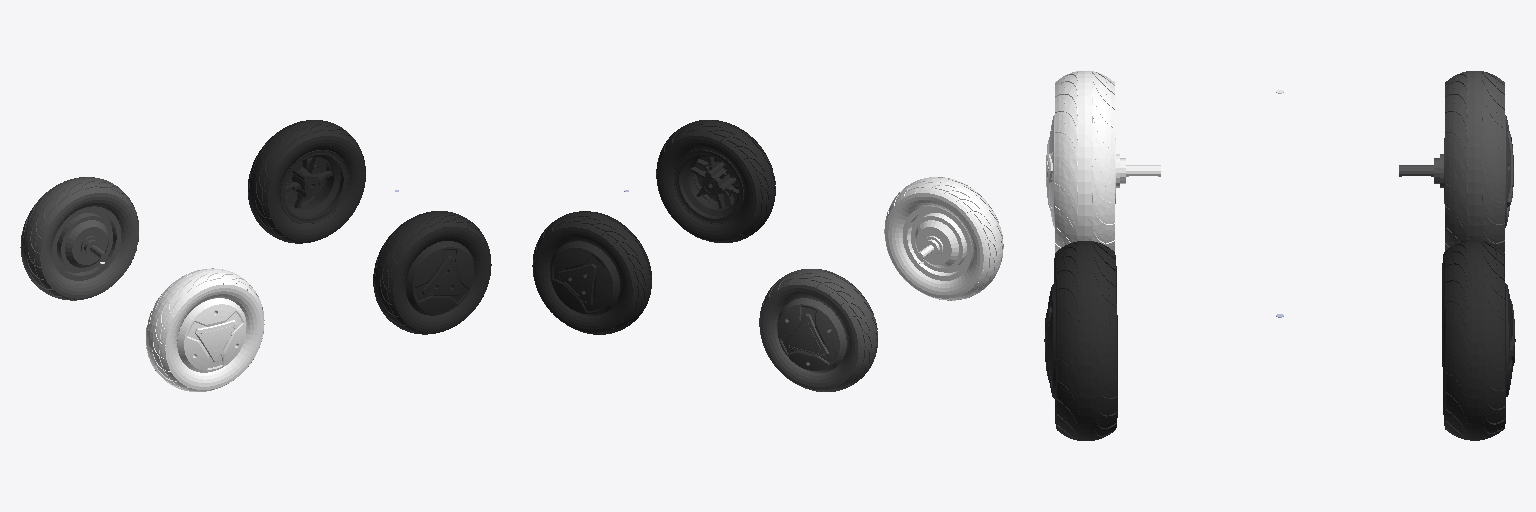
URDF robot description (hunter_se_description):
<?xml version="1.0" encoding="utf-8"?>
<!-- This URDF was automatically created by SolidWorks to URDF Exporter! Originally created by [author] ([email redacted]) 
     Commit Version: 1.6.0-1-g15f4949  Build Version: 1.6.7594.29634
     For more information, please see http://wiki.ros.org/sw_urdf_exporter -->
<robot
  name="hunter_se_description">
  <link
    name="base_link">
    <inertial>
      <origin
        xyz="0.0374140021041951 -0.000373005187591258 -0.0771282894414029"
        rpy="0 0 0" />
      <mass
        value="0.01" />
      <inertia
        ixx="0.123215829336501"
        ixy="-2.51201031615063E-06"
        ixz="0.00480100638469038"
        iyy="0.219144715482931"
        iyz="-1.0329581476775E-05"
        izz="0.313606030126045" />
    </inertial>
    <visual>
      <origin
        xyz="0 0 0"
        rpy="0 0 0" />
      <geometry>
        <mesh
          filename="package://hunter_se_description/meshes/base_link.STL" />
      </geometry>
      <material
        name="">
        <color
          rgba="0.752941176470588 0.752941176470588 0.752941176470588 1" />
      </material>
    </visual>
    <collision>
      <origin
        xyz="0 0 0"
        rpy="0 0 0" />
      <geometry>
        <mesh
          filename="package://hunter_se_description/meshes/base_link.STL" />
      </geometry>
    </collision>
  </link>
  <link
    name="fr_steer_left_link">
    <inertial>
      <origin
        xyz="-0.0002776492198312 0.0163539773588368 4.97346169803237E-09"
        rpy="0 0 0" />
      <mass
        value="0.01" />
      <inertia
        ixx="0.0176012120277572"
        ixy="-0.000255822069720042"
        ixz="4.89135197289253E-08"
        iyy="0.0326650592194903"
        iyz="-5.05595058544686E-10"
        izz="0.0175968940276803" />
    </inertial>
    <visual>
      <origin
        xyz="0 0 0"
        rpy="0 0 0" />
      <geometry>
        <box size="0.001 0.001 0.001"/>
      </geometry>
      <material
        name="">
        <color
          rgba="0.223529411764706 0.223529411764706 0.223529411764706 1" />
      </material>
    </visual>
    <collision>
      <origin
        xyz="0 0 0"
        rpy="0 0 0" />
      <geometry>
        <box size="0.001 0.001 0.001"/>
      </geometry>
    </collision>
  </link>
  <joint
    name="fr_steer_left_joint"
    type="revolute">
    <origin
      xyz="0.34058 0.24619 -0.1535"
      rpy="0 0 0" />
    <parent
      link="base_link" />
    <child
      link="fr_steer_left_link" />
    <axis
      xyz="0 0 1" />
    <limit
      lower="-0.69"
      upper="0.69"
      effort="0"
      velocity="0" />
  </joint>
  <link
    name="fr_left_link">
    <inertial>
      <origin
        xyz="-3.5837499634539E-10 4.97346158701006E-09 -0.016356334080185"
        rpy="0 0 0" />
      <mass
        value="0.01" />
      <inertia
        ixx="0.0175968687768806"
        ixy="4.88978895069836E-08"
        ixz="2.59363668202492E-09"
        iyy="0.0175968940276803"
        iyz="1.33582951478864E-09"
        izz="0.0326694024703669" />
    </inertial>
    <visual>
      <origin
        xyz="0 0 0"
        rpy="0 0 0" />
      <geometry>
        <mesh
          filename="package://hunter_se_description/meshes/fr_left_link.STL" />
      </geometry>
      <material
        name="">
        <color
          rgba="0.223529411764706 0.223529411764706 0.223529411764706 1" />
      </material>
    </visual>
    <collision>
      <origin
        xyz="0 0 0"
        rpy="0 0 0" />
      <geometry>
        <mesh
          filename="package://hunter_se_description/meshes/fr_left_link.STL" />
      </geometry>
    </collision>
  </link>
  <joint
    name="fr_left_joint"
    type="continuous">
    <origin
      xyz="0 0 0"
      rpy="1.5708 0 0.016976" />
    <parent
      link="fr_steer_left_link" />
    <child
      link="fr_left_link" />
    <axis
      xyz="0 0 -1" />
  </joint>
  <link
    name="fr_steer_right_link">
    <inertial>
      <origin
        xyz="0.000274981985673328 -0.0163540222836661 -3.24802407192237E-11"
        rpy="0 0 0" />
      <mass
        value="0.01" />
      <inertia
        ixx="0.0176011208398464"
        ixy="-0.000253357559513646"
        ixz="8.00593138443467E-09"
        iyy="0.0326650290732704"
        iyz="5.65898650063874E-11"
        izz="0.0175967847225325" />
    </inertial>
    <visual>
      <origin
        xyz="0 0 0"
        rpy="0 0 0" />
      <geometry>
        <box size="0.001 0.001 0.001"/>
      </geometry>
      <material
        name="">
        <color
          rgba="1 1 1 1" />
      </material>
    </visual>
    <collision>
      <origin
        xyz="0 0 0"
        rpy="0 0 0" />
      <geometry>
        <box size="0.001 0.001 0.001"/>
      </geometry>
    </collision>
  </link>
  <joint
    name="fr_steer_right_joint"
    type="revolute">
    <origin
      xyz="0.34219 -0.24619 -0.1535"
      rpy="0 0 0" />
    <parent
      link="base_link" />
    <child
      link="fr_steer_right_link" />
    <axis
      xyz="0 0 1" />
    <limit
      lower="-0.69"
      upper="0.69"
      effort="0"
      velocity="0" />
  </joint>
  <link
    name="fr_right_link">
    <inertial>
      <origin
        xyz="0.00027498198567355 3.24801296969213E-11 -0.0163540222836661"
        rpy="0 0 0" />
      <mass
        value="0.01" />
      <inertia
        ixx="0.0176011208398464"
        ixy="-8.00593138518773E-09"
        ixz="-0.000253357559513648"
        iyy="0.0175967847225325"
        iyz="-5.65898177386586E-11"
        izz="0.0326650290732703" />
    </inertial>
    <visual>
      <origin
        xyz="0 0 0"
        rpy="0 0 0" />
      <geometry>
        <mesh
          filename="package://hunter_se_description/meshes/fr_right_link.STL" />
      </geometry>
      <material
        name="">
        <color
          rgba="0.223529411764706 0.223529411764706 0.223529411764706 1" />
      </material>
    </visual>
    <collision>
      <origin
        xyz="0 0 0"
        rpy="0 0 0" />
      <geometry>
        <mesh
          filename="package://hunter_se_description/meshes/fr_right_link.STL" />
      </geometry>
    </collision>
  </link>
  <joint
    name="fr_right_joint"
    type="continuous">
    <origin
      xyz="0 0 0"
      rpy="-1.5708 0 0" />
    <parent
      link="fr_steer_right_link" />
    <child
      link="fr_right_link" />
    <axis
      xyz="0 0 1" />
  </joint>

  <link
    name="re_left_link">
    <inertial>
      <origin
        xyz="1.245E-09 1.7252E-06 -0.010284"
        rpy="0 0 0" />
      <mass
        value="0.01" />
      <inertia
        ixx="0.018208"
        ixy="-1.1815E-10"
        ixz="-4.2619E-10"
        iyy="0.018208"
        iyz="-5.0277E-07"
        izz="0.03306" />
    </inertial>
    <visual>
      <origin
        xyz="0 0 0"
        rpy="0 0 0" />
      <geometry>
        <mesh
          filename="package://hunter_se_description/meshes/re_left_link.STL" />
      </geometry>
      <material
        name="">
        <color
          rgba="0.37647 0.37647 0.37647 1" />
      </material>
    </visual>
    <collision>
      <origin
        xyz="0 0 0"
        rpy="0 0 0" />
      <geometry>
        <mesh
          filename="package://hunter_se_description/meshes/re_left_link.STL" />
      </geometry>
    </collision>
  </link>
  <joint
    name="re_left_jiont"
    type="continuous">
    <origin
      xyz="-0.2078 0.252 -0.158"
      rpy="1.5708 0 0" />
    <parent
      link="base_link" />
    <child
      link="re_left_link" />
    <axis
      xyz="0 0 -1" />
  </joint>
  <link
    name="re_right_link">
    <inertial>
      <origin
        xyz="0 0 0"
        rpy="0 0 0" />
      <mass
        value="0.01" />
      <inertia
        ixx="0.0176011208398464"
        ixy="-8.00593138518773E-09"
        ixz="-0.000253357559513648"
        iyy="0.0175967847225325"
        iyz="-5.65898177386586E-11"
        izz="0.0326650290732703" />
    </inertial>
    <visual>
      <origin
        xyz="0 0 0"
        rpy="0 0 0" />
      <geometry>
        <mesh
          filename="package://hunter_se_description/meshes/re_right_link.STL" />
      </geometry>
      <material
        name="">
        <color
          rgba="1 1 1 1" />
      </material>
    </visual>
    <collision>
      <origin
        xyz="0 0 0"
        rpy="0 0 0" />
      <geometry>
        <mesh
          filename="package://hunter_se_description/meshes/re_right_link.STL" />
      </geometry>
    </collision>
  </link>
  <joint
    name="re_right_jiont"
    type="continuous">
    <origin
      xyz="-0.2078 -0.252 -0.158"
      rpy="-1.5708 0 0" />
    <parent
      link="base_link" />
    <child
      link="re_right_link" />
    <axis
      xyz="0 0 1" />
  </joint>

  <link
    name="front_steer_link">
    <inertial>
      <origin
        xyz="0.049836 8.1046E-15 0.017912"
        rpy="0 0 0" />
      <mass
        value="0.0049179" />
      <inertia
        ixx="1.6846E-07"
        ixy="7.6396E-23"
        ixz="-1.0974E-08"
        iyy="7.549E-07"
        iyz="-1.8957E-22"
        izz="7.334E-07" />
    </inertial>
    <visual>
      <origin
        xyz="0 0 0"
        rpy="0 0 0" />
      <geometry>
      <cylinder length="0.001" radius="0.005"/>
      </geometry>
      <material
        name="">
        <color
          rgba="0.79216 0.81961 0.93333 1" />
      </material>
    </visual>
    <collision>
      <origin
        xyz="0 0 0"
        rpy="0 0 0" />
      <geometry>
      <cylinder length="0.001" radius="0.005"/>
      </geometry>
    </collision>
  </link>
  <joint
    name="front_steer_joint"
    type="revolute">
    <origin
      xyz="0.40792 -1.1431E-05 -0.085581"
      rpy="0 0 0" />
    <parent
      link="base_link" />
    <child
      link="front_steer_link" />
    <axis
      xyz="0 0 1" />
    <limit
      lower="-0.72"
      upper="0.72"
      effort="0"
      velocity="0" />
  </joint>
  <link
    name="rear_wheel_link">
    <inertial>
      <origin
        xyz="-0.02 0.0031269 -0.12735"
        rpy="0 0 0" />
      <mass
        value="0.0049179" />
      <inertia
        ixx="1.1821E-06"
        ixy="9.6965E-13"
        ixz="-3.1553E-12"
        iyy="9.5276E-07"
        iyz="1.2428E-08"
        izz="1.0913E-06" />
    </inertial>
    <visual>
      <origin
        xyz="0 0 0"
        rpy="0 0 0" />
      <geometry>
      <cylinder length="0.001" radius="0.005"/>
      </geometry>
      <material
        name="">
        <color
          rgba="1 1 1 1" />
      </material>
    </visual>
    <collision>
      <origin
        xyz="0 0 0"
        rpy="0 0 0" />
      <geometry>
      <cylinder length="0.001" radius="0.005"/>
      </geometry>
    </collision>
  </link>
  <joint
    name="rear_wheel_joint"
    type="continuous">
    <origin
      xyz="-0.30408 -1.1431E-05 -0.085581"
      rpy="0.0032313 0 0" />
    <parent
      link="base_link" />
    <child
      link="rear_wheel_link" />
    <axis
      xyz="0 0 1" />
  </joint>
  

  <gazebo>
    <plugin name="gazebo_ros_control" filename="libgazebo_ros_control.so">
      <robotSimType>steer_bot_hardware_gazebo/SteerBotHardwareGazebo</robotSimType>
      <legacyModeNS>false</legacyModeNS>
    </plugin>
  </gazebo>



</robot>

--- What the picture shows (computed from the rendered views, not written in the file) ---
The picture shows the robot from 3 angles, left to right: view 1: azimuth 30°, elevation 25°; view 2: azimuth 150°, elevation 25°; view 3: azimuth 270°, elevation 25°; orthographic projection.
Robot: hunter_se_description — 9 links, 8 joints (3 revolute, 5 continuous); root link base_link; default pose: all joints at 0.
Links seen in each view (by area): view 1: re_right_link, re_left_link, fr_left_link, fr_right_link; view 2: fr_left_link, fr_right_link, re_right_link, re_left_link; view 3: fr_left_link, fr_right_link, re_right_link, re_left_link.
Boxes of the visible links, x1=… form: re_right_link: x1=146, y1=268, x2=264, y2=391; re_left_link: x1=20, y1=177, x2=138, y2=300; fr_left_link: x1=248, y1=120, x2=365, y2=243; fr_right_link: x1=373, y1=211, x2=491, y2=334; fr_left_link: x1=532, y1=211, x2=651, y2=334; fr_right_link: x1=656, y1=120, x2=775, y2=242; re_right_link: x1=884, y1=177, x2=1003, y2=300; re_left_link: x1=759, y1=269, x2=877, y2=391; fr_left_link: x1=1442, y1=240, x2=1515, y2=440; fr_right_link: x1=1044, y1=241, x2=1117, y2=440; re_right_link: x1=1046, y1=71, x2=1160, y2=252; re_left_link: x1=1399, y1=71, x2=1513, y2=257.
Bounding box of the posed robot: 0.8198 × 0.633 × 0.2743 m (x, y, z).
4 mesh visuals loaded from 5 distinct referenced files (4 binary STL); not drawn: 1 (reference not matched to a file when rendering).
